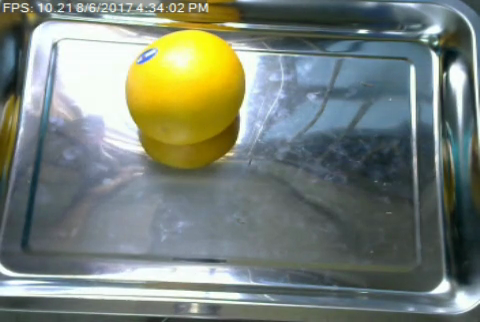Orange: (124, 29, 245, 143)
